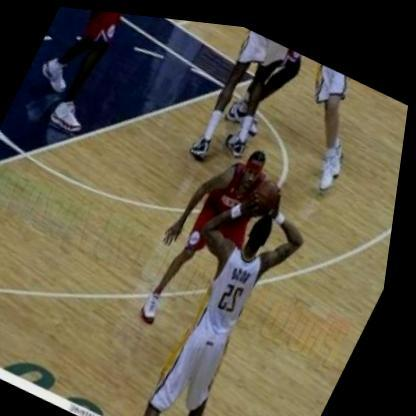basketball: (253, 169, 291, 210)
